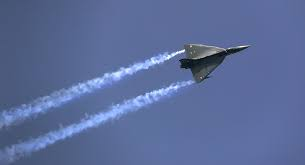fighter: (175, 39, 254, 86)
